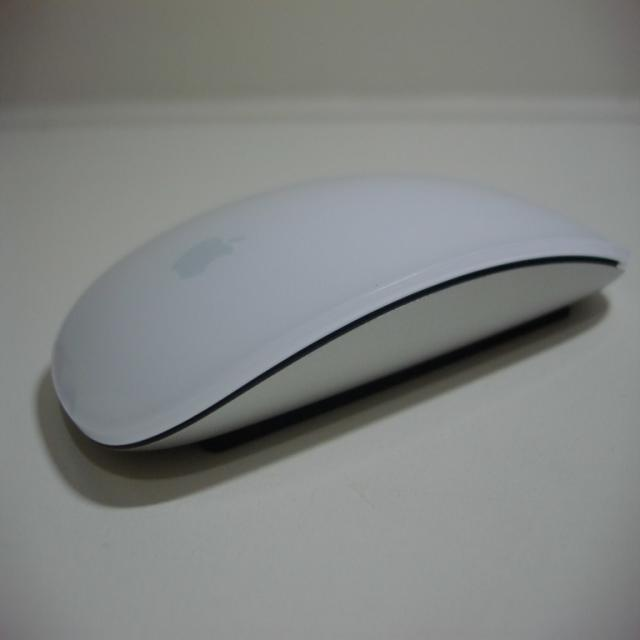Computer mouse: (51, 172, 631, 460)
